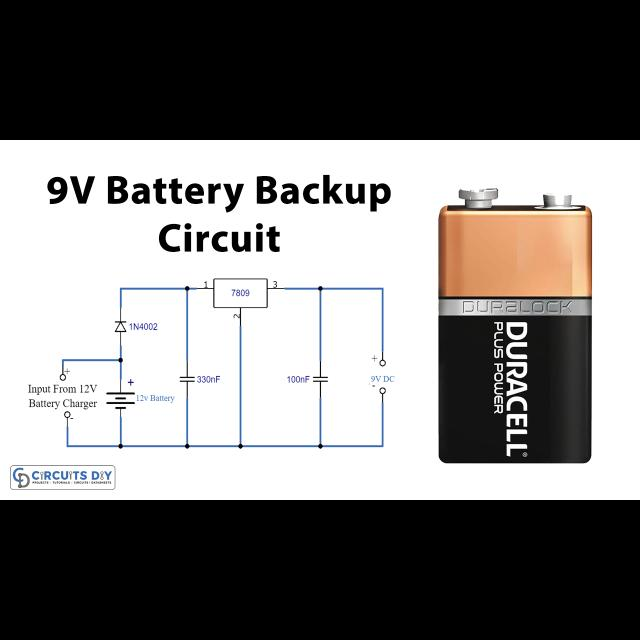Battery: (438, 188, 592, 465)
